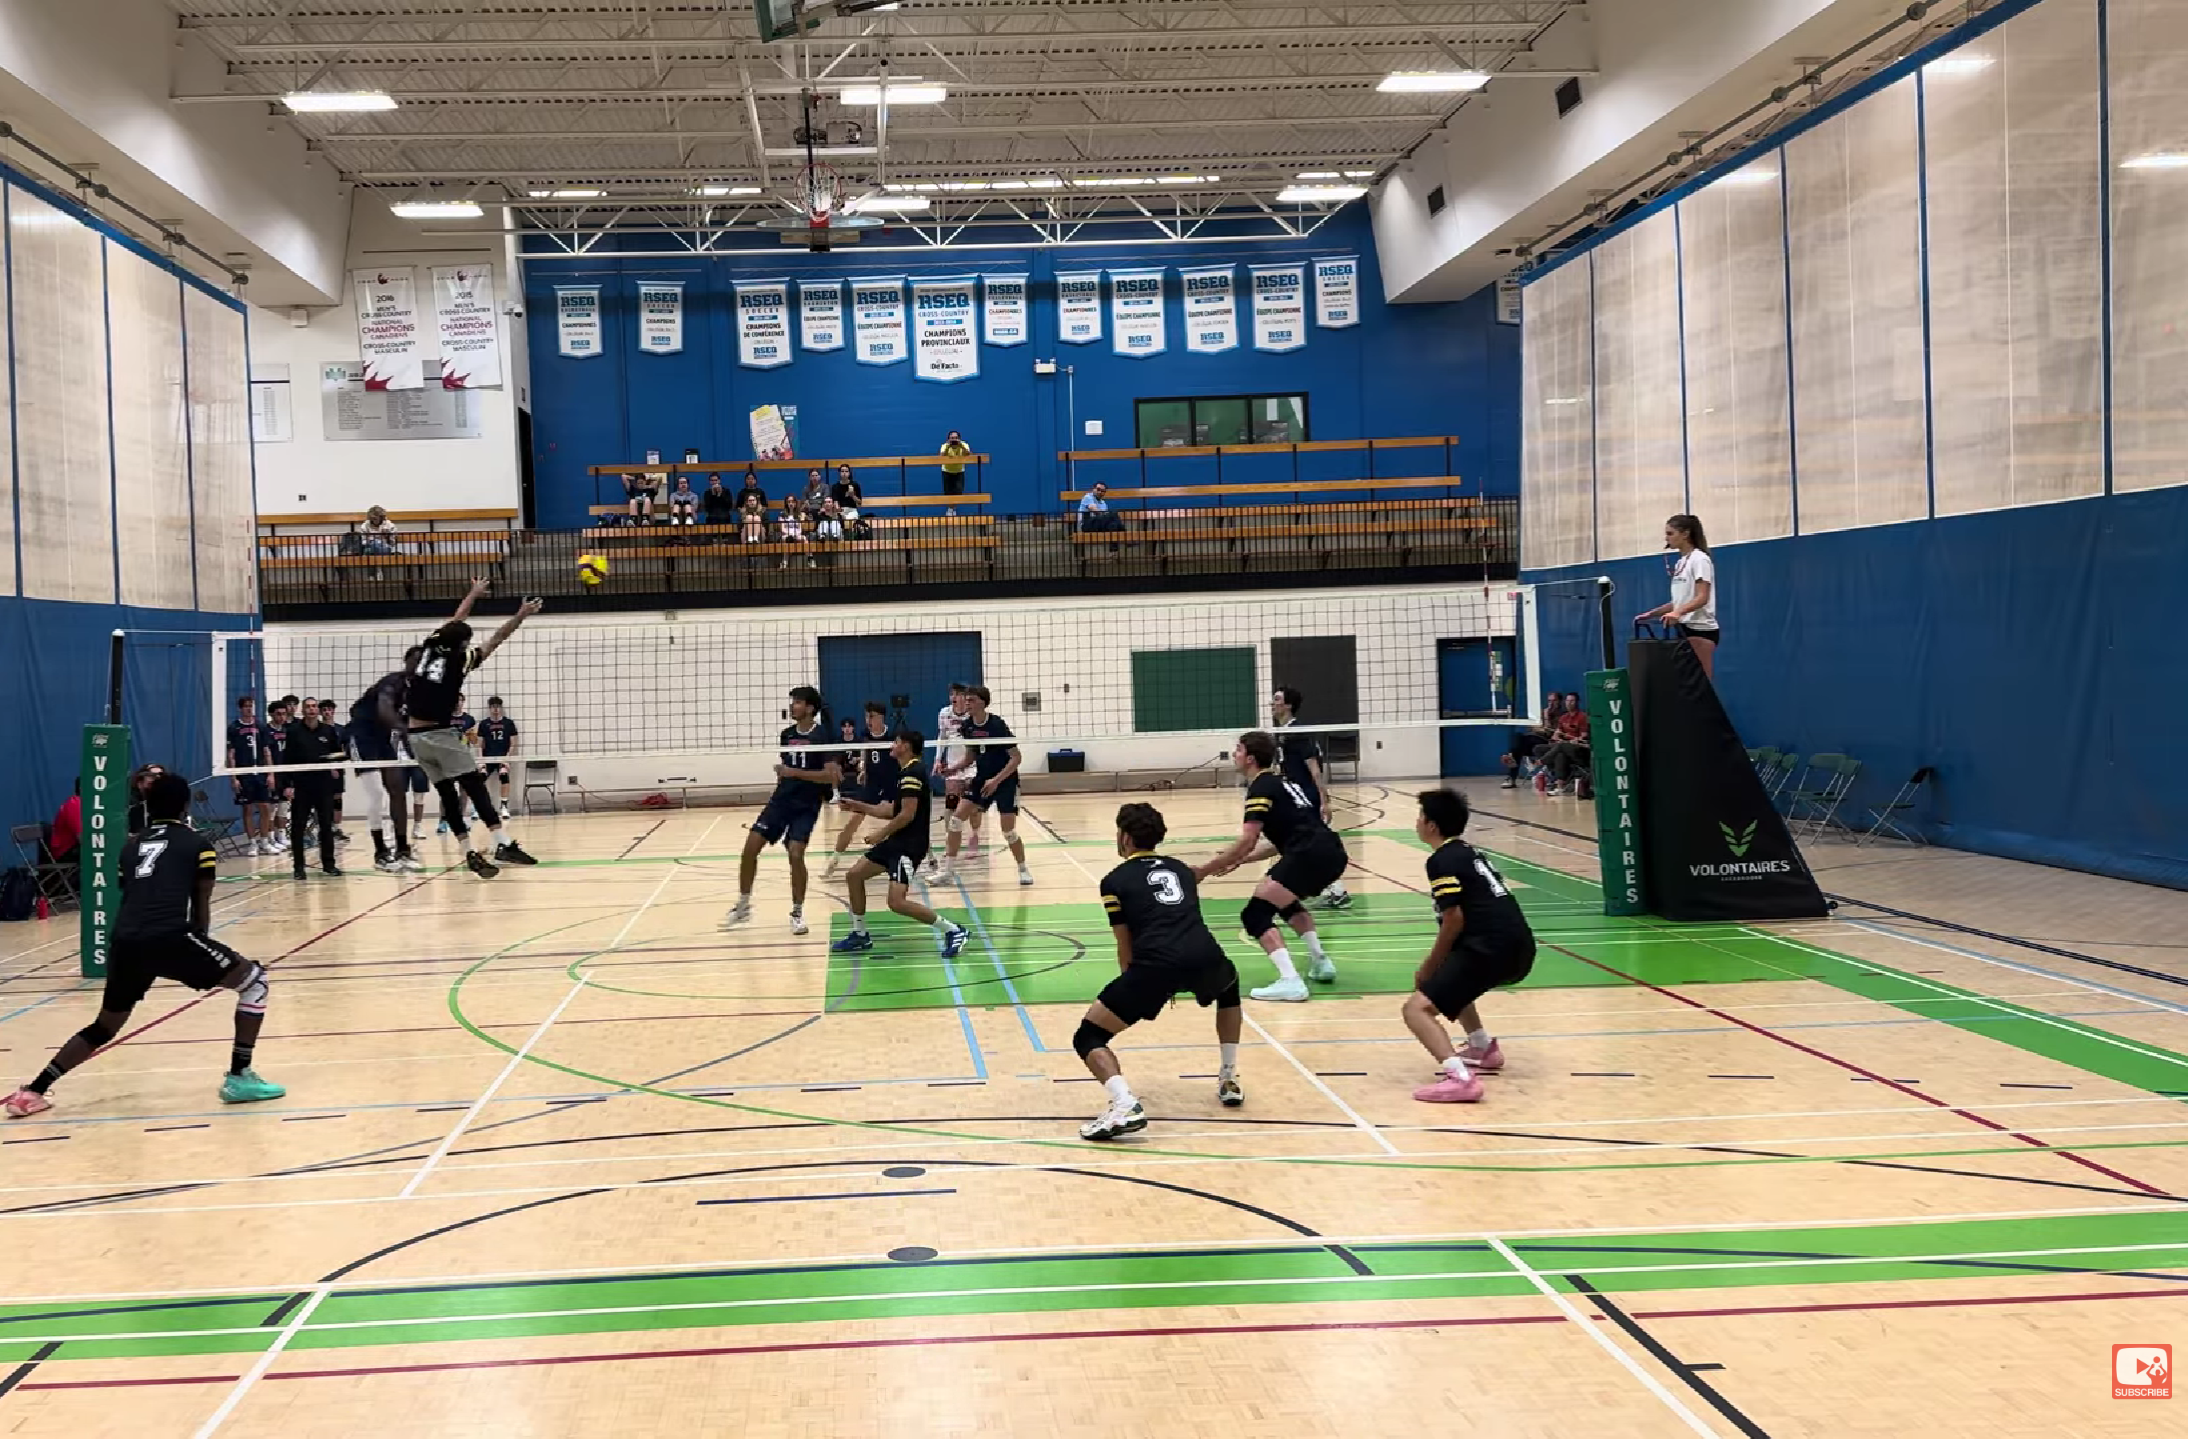Ball: (576, 552, 612, 586)
